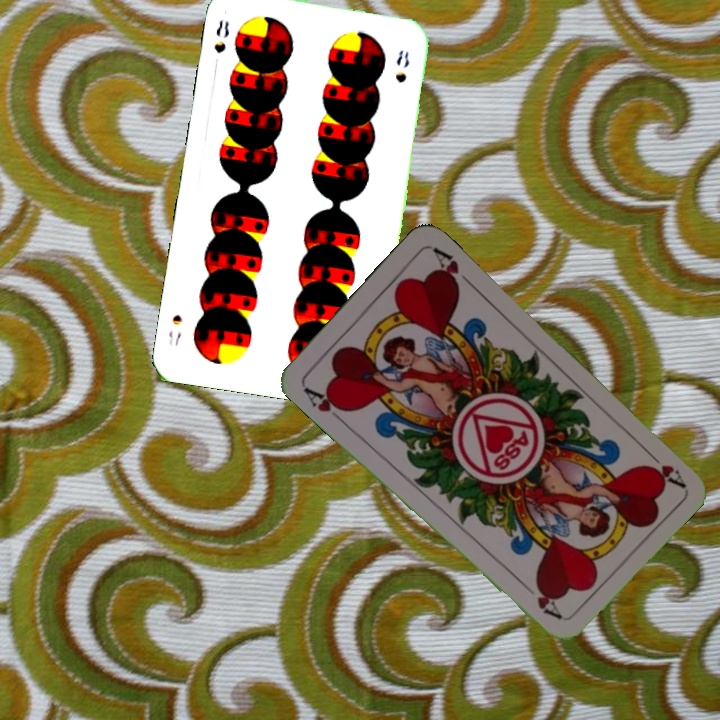HA: (298, 383, 352, 425), (639, 443, 687, 489)
S8: (210, 17, 232, 56)
